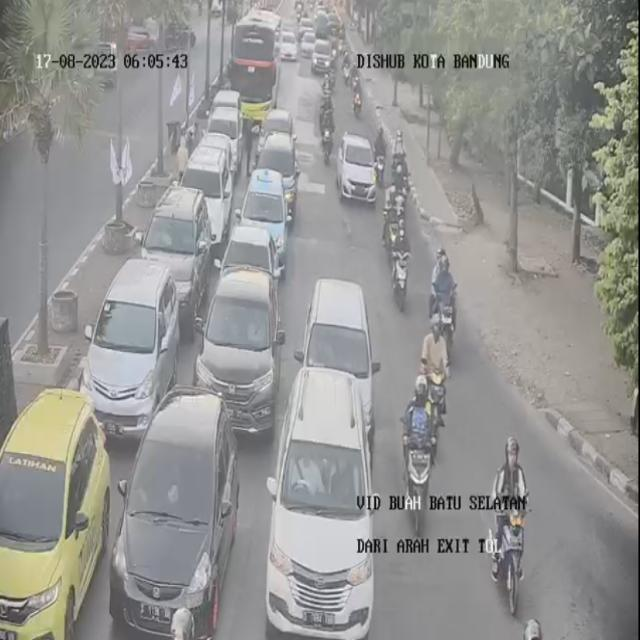bus: (230, 12, 283, 125)
cars: (120, 392, 247, 640), (0, 376, 111, 631), (262, 370, 367, 636), (86, 261, 185, 419), (198, 265, 284, 437), (296, 271, 372, 439), (152, 180, 214, 314), (182, 148, 232, 245), (216, 224, 282, 292), (241, 169, 287, 264), (258, 134, 299, 222), (203, 110, 250, 183), (338, 128, 379, 204), (260, 111, 294, 152), (211, 87, 242, 119), (312, 34, 332, 81), (278, 21, 294, 60), (302, 16, 318, 44)
motorcycle: (486, 428, 536, 610), (400, 371, 435, 507), (427, 246, 462, 364), (420, 314, 454, 429), (383, 221, 412, 307), (158, 605, 206, 640), (385, 188, 408, 248), (509, 616, 560, 640), (322, 98, 340, 165), (391, 151, 411, 207), (372, 124, 388, 184), (351, 76, 366, 120), (324, 64, 339, 101), (320, 65, 334, 100), (349, 58, 365, 88), (372, 122, 386, 154), (346, 55, 358, 84)
